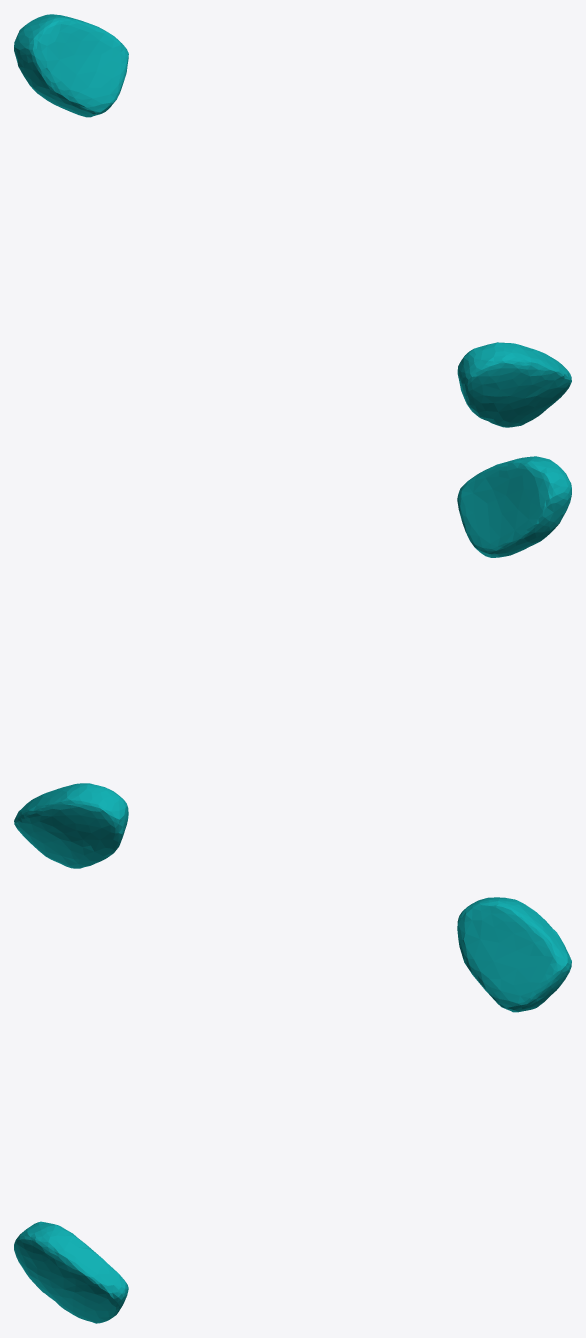
3 renders of one model, top to bottom at view 1: azimuth 30°, elevation 25°; view 2: azimuth 150°, elevation 25°; view 3: azimuth 330°, elevation 25°, orthographic.
Parts seen in each view (by area): view 1: 847.obj; view 2: 847.obj; view 3: 847.obj.
Boxes of the visible parts, <box> form: 847.obj: <box>14,14,571,427</box>; 847.obj: <box>14,456,571,868</box>; 847.obj: <box>14,897,571,1323</box>.
Size of the model in its own units: 1236 by 1067 by 9414.
